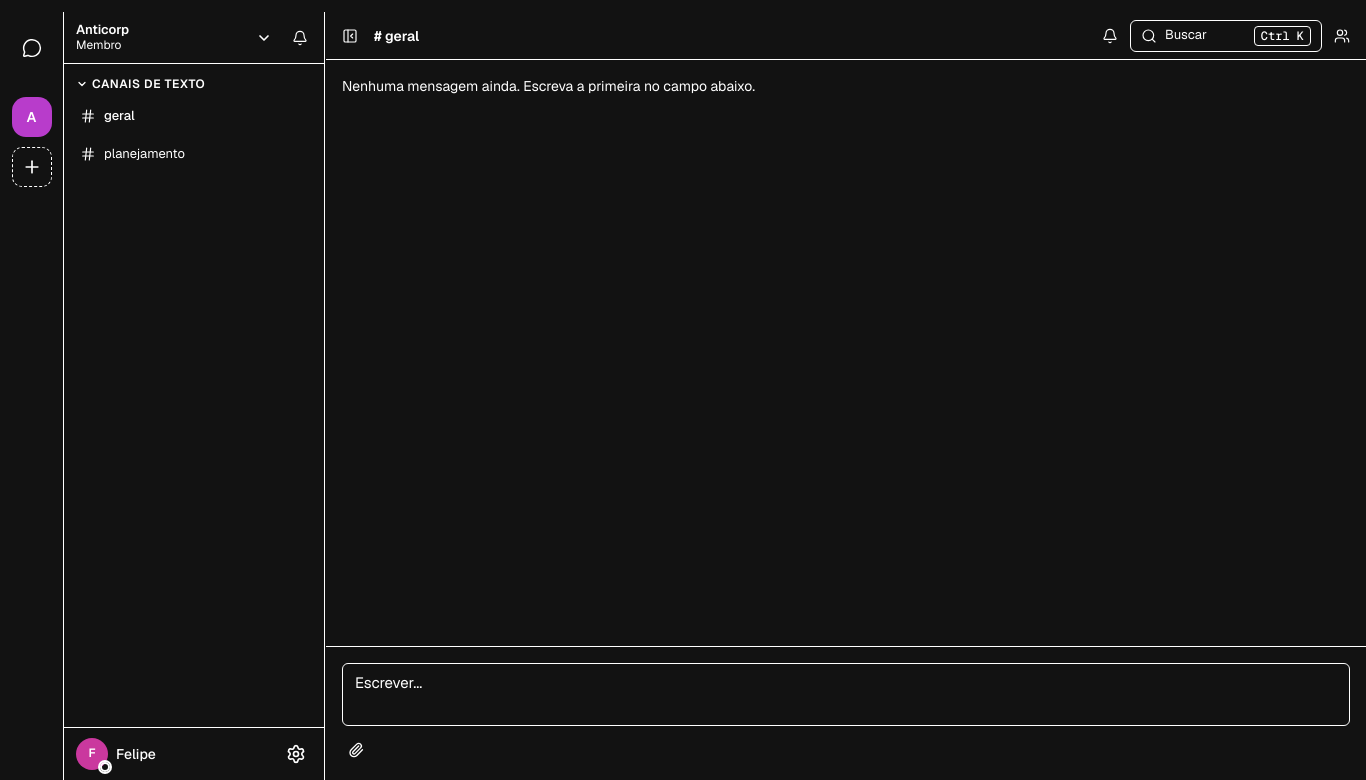
Test: estrutura da aplicacao › em 1000px o painel de membros colapsa e volta por botão
Click the 2nd button named "Mostrar membros".
click(1342, 36)  # box [1326,20,1358,52]
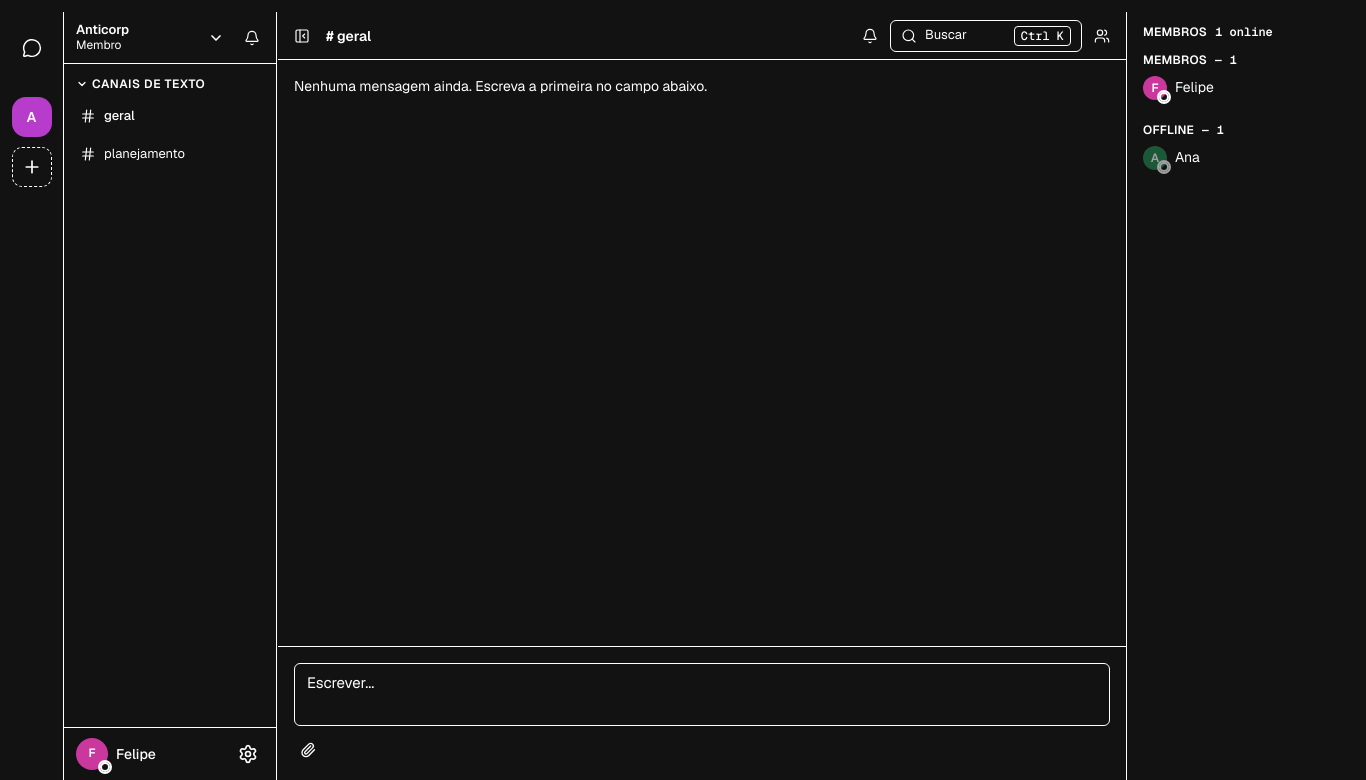
expect the element "Membros" is shown: met, box [1126,12,1365,779]
